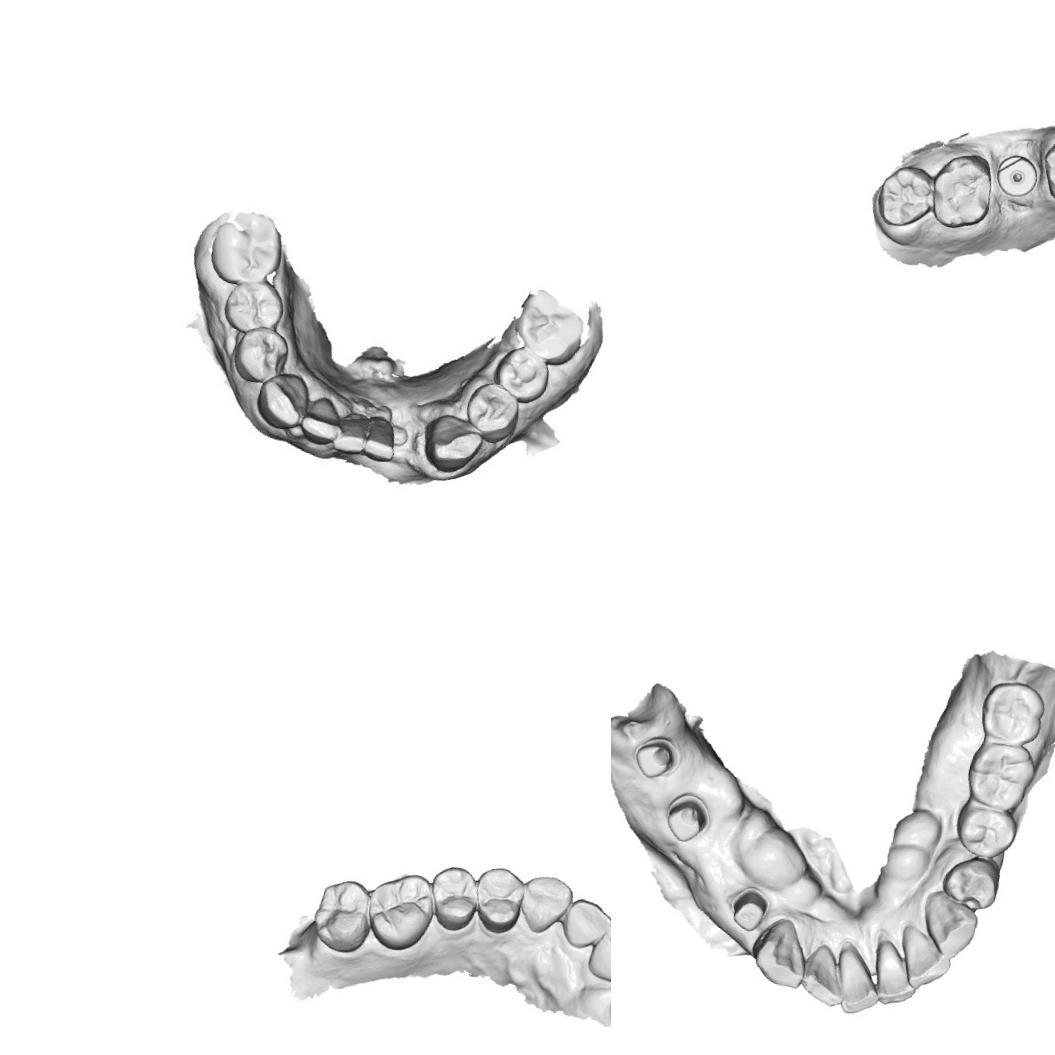abutment: (660, 786, 716, 848), (628, 731, 682, 785), (725, 882, 774, 934)
canine: (745, 912, 817, 992), (913, 886, 984, 962), (418, 408, 490, 481), (250, 365, 314, 435), (514, 870, 576, 940)
implant: (992, 151, 1044, 202)
incisor: (827, 938, 890, 1020), (890, 921, 958, 996), (865, 938, 924, 1010), (796, 939, 854, 1011), (557, 893, 611, 956), (295, 392, 346, 450), (358, 416, 403, 468), (328, 412, 372, 460), (584, 918, 611, 990)
molar: (203, 202, 291, 294), (358, 864, 442, 958), (508, 288, 592, 370), (925, 145, 1001, 235), (960, 736, 1041, 814), (306, 872, 379, 958), (975, 673, 1052, 751), (870, 158, 939, 235)
premolar: (949, 794, 1023, 864), (226, 318, 296, 390), (422, 860, 486, 936), (218, 273, 290, 340), (467, 862, 530, 938), (460, 376, 528, 444), (488, 342, 555, 408), (937, 850, 1005, 913), (1036, 133, 1055, 209)
